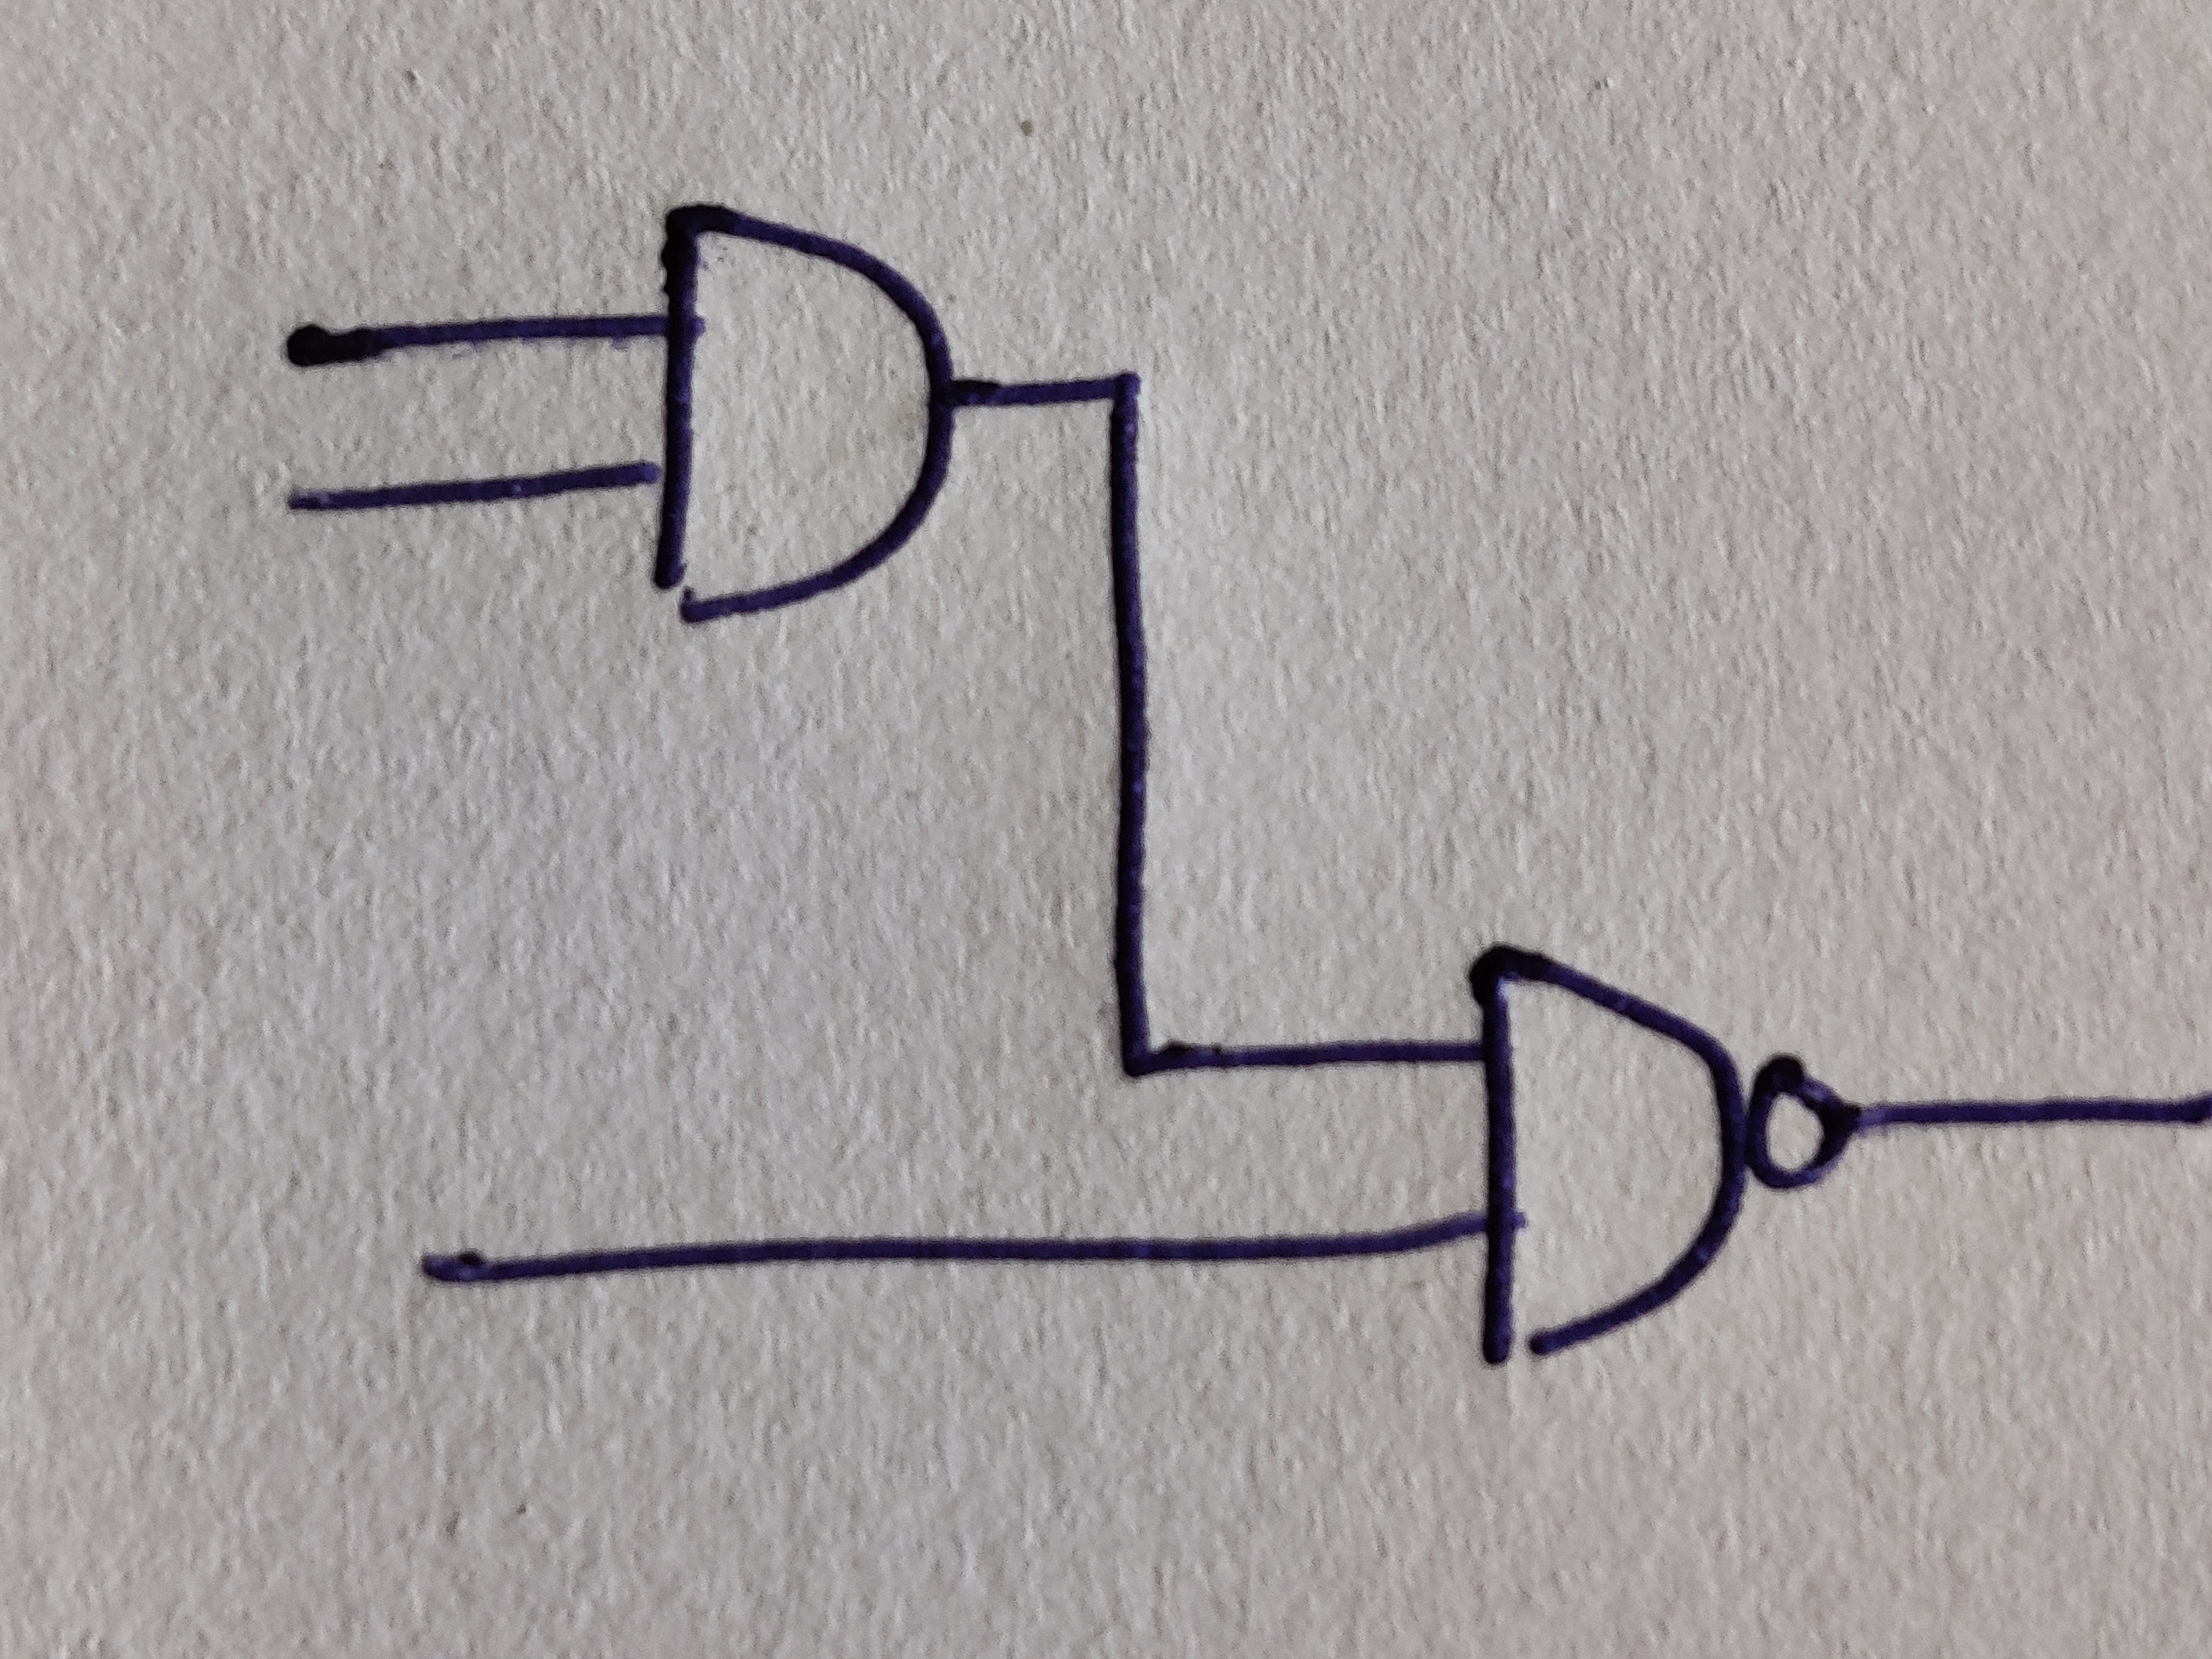and: (655, 204, 954, 626), (1467, 943, 1747, 1366)
not: (1742, 1054, 1855, 1192)
